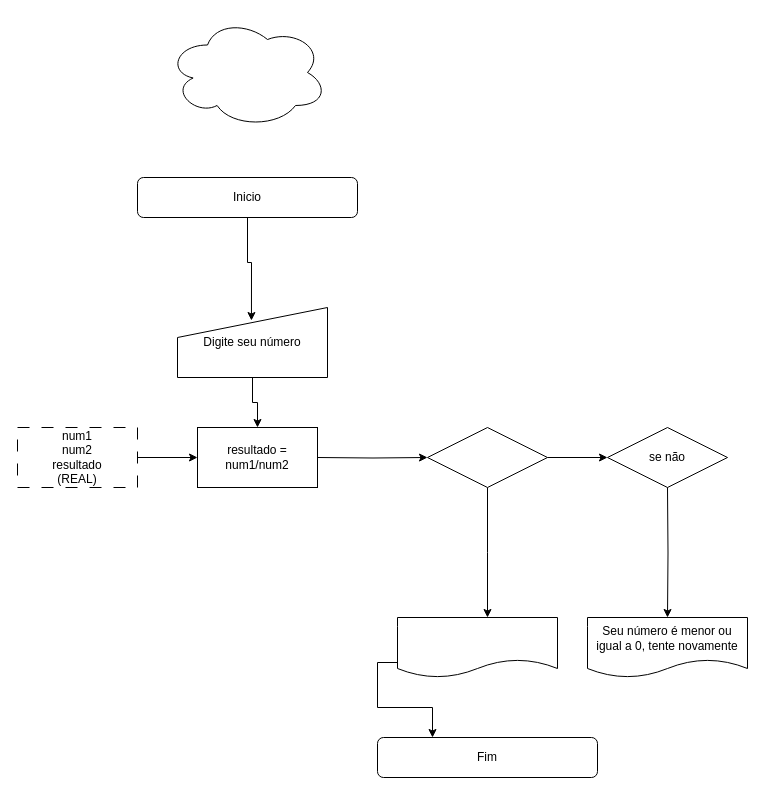
The diagram is 765 pixels wide and 795 high, and some of its shapes have lost their labels. Each missing label, with the centre of its shape:
"EXERCICIO 1" belongs at point 247,72.
"Resultado" belongs at point 477,647.
"se num1 and num2>=0" belongs at point 487,457.
